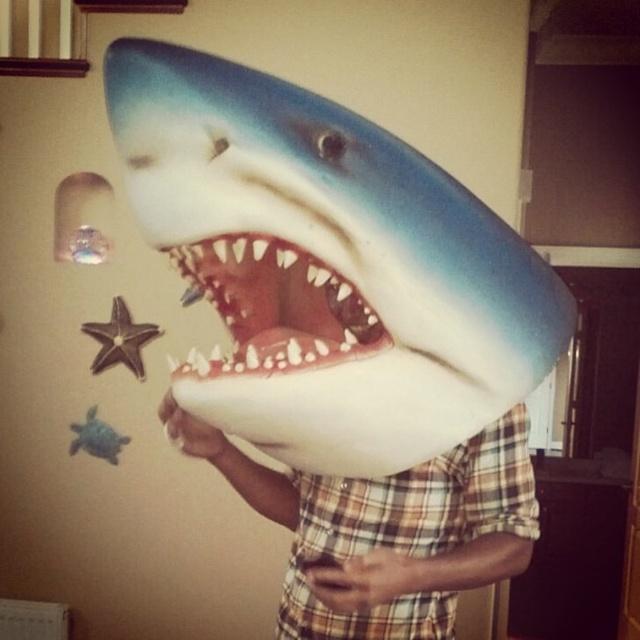Shark: (108, 35, 579, 476)
